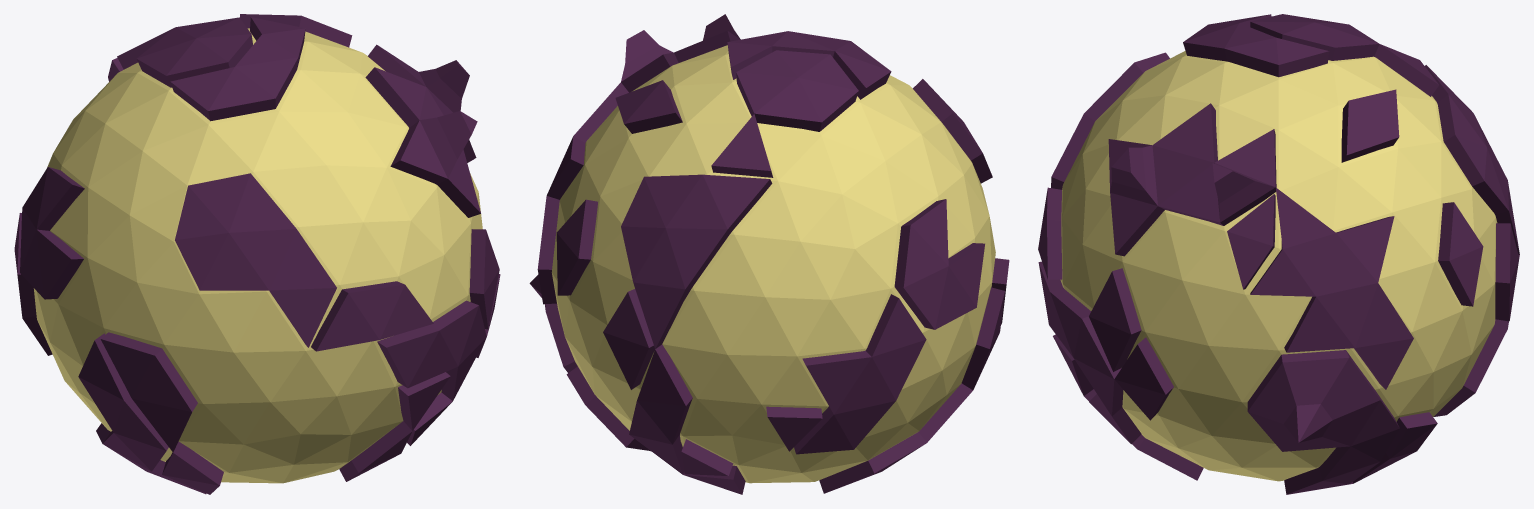
Rendered from Planeta_4.fbx.
The picture shows the model from 3 angles, left to right: view 1: azimuth 30°, elevation 25°; view 2: azimuth 150°, elevation 25°; view 3: azimuth 270°, elevation 25°; orthographic projection. The views are drawn at different scales.
Parts seen in each view (by area): view 1: Icosphere.011, Icosphere.003; view 2: Icosphere.011, Icosphere.003; view 3: Icosphere.011, Icosphere.003.
Part boxes in pixels (x1,y1,x2,y2): Icosphere.011: [33, 28, 482, 483]; Icosphere.003: [14, 14, 500, 494]; Icosphere.011: [551, 45, 995, 483]; Icosphere.003: [529, 14, 1009, 494]; Icosphere.011: [1060, 51, 1497, 481]; Icosphere.003: [1038, 14, 1519, 494].
Bounding box in the file's own units: 2682 × 2454 × 2505.
